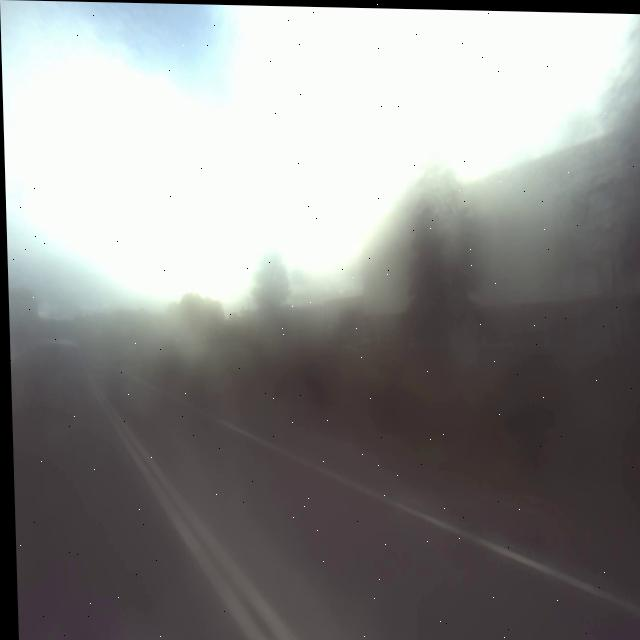car: (12, 312, 96, 444)
